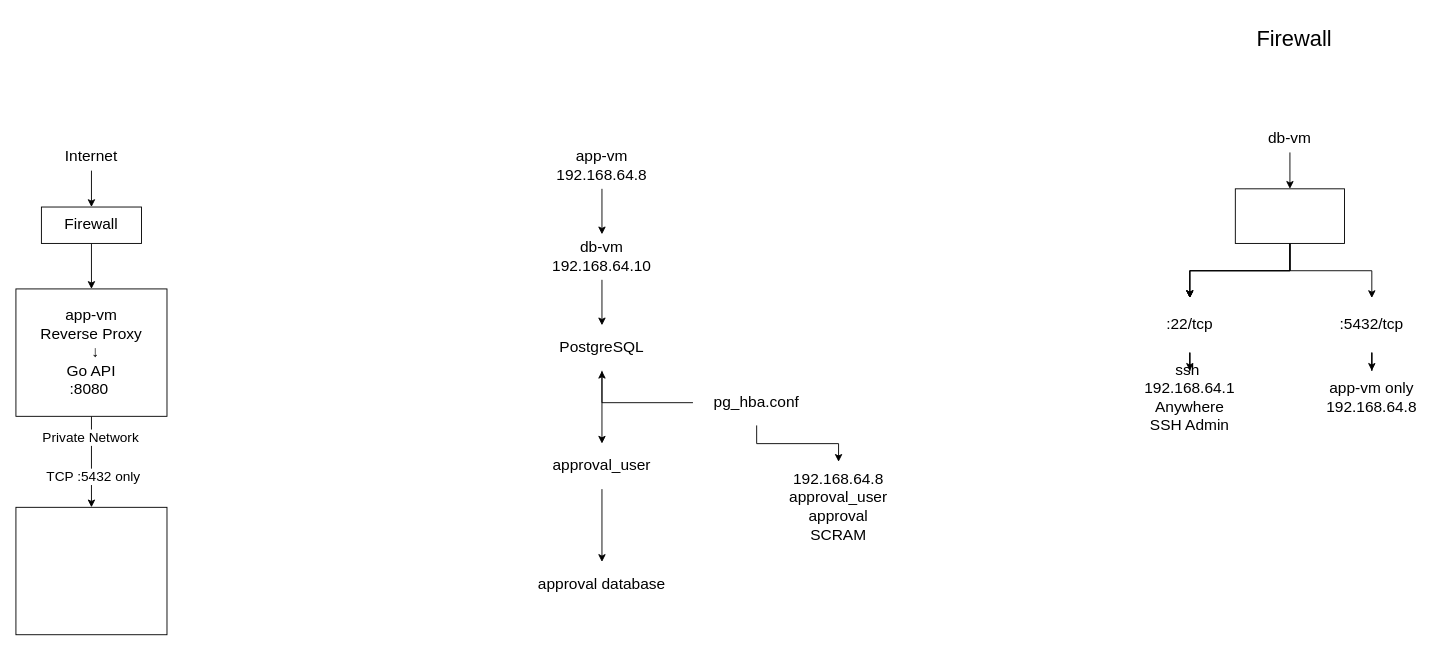
The diagram is 1442 pixels wide and 651 high, and some of its shapes have lost their labels. The shapes that lost their labels are listed below. From the top down, each one's centre as x and y in pixels, then its label:
point 1289,215: UFW
point 91,570: db-vm PostgreSQL :5432
